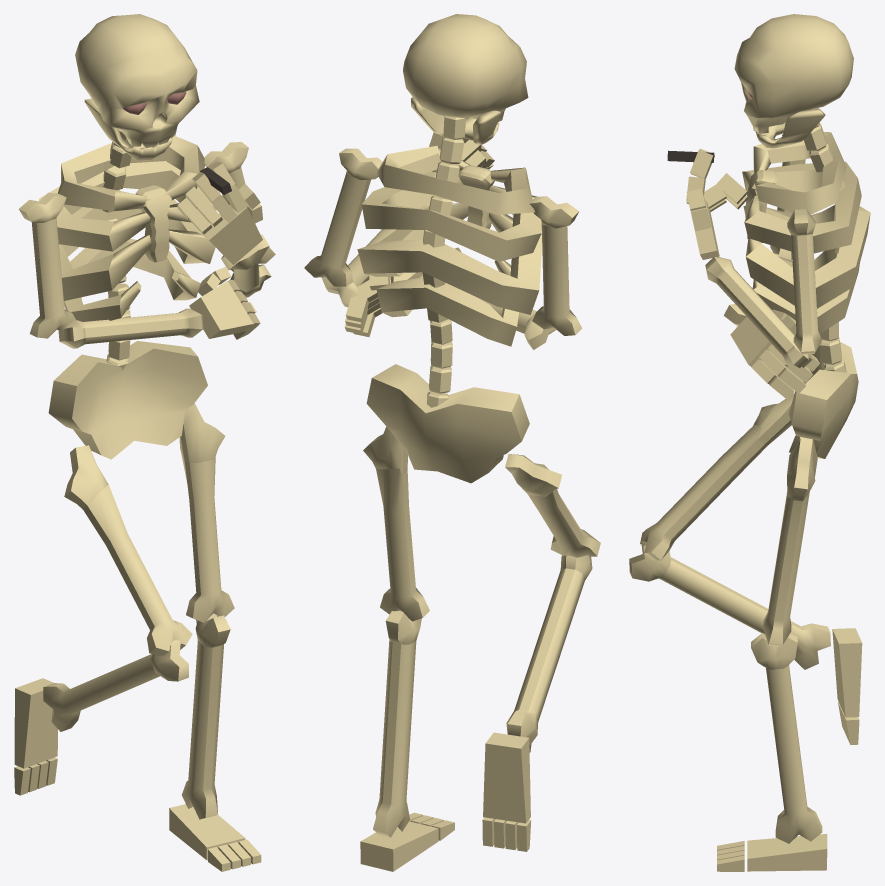
File: skeleton_STONER_frame01.fbx
The picture shows the model from 3 angles, left to right: view 1: azimuth 30°, elevation 25°; view 2: azimuth 150°, elevation 25°; view 3: azimuth 270°, elevation 25°; orthographic projection. The views are drawn at different scales.
Visible parts, largest first — view 1: skeleton_stonerF1_joint; view 2: skeleton_stonerF1_joint; view 3: skeleton_stonerF1_joint.
Boxes of the visible parts, bbox=[...] form: skeleton_stonerF1_joint: bbox=[14, 14, 275, 871]; skeleton_stonerF1_joint: bbox=[304, 14, 600, 871]; skeleton_stonerF1_joint: bbox=[629, 14, 870, 871].
Bounding box in the file's own units: 57.04 × 177 × 47.81.
